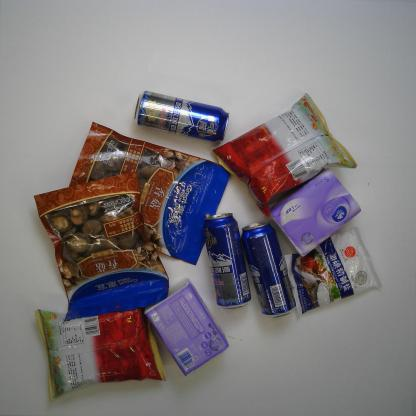Alcohol: (240, 220, 298, 320), (132, 90, 231, 143), (201, 211, 252, 311)
Dried Food: (68, 120, 230, 268), (32, 170, 171, 322)
Puffed Food: (209, 92, 359, 219), (32, 308, 167, 404)
Seasoner: (283, 224, 384, 318)
Tissue: (142, 277, 230, 378), (268, 166, 362, 259)
